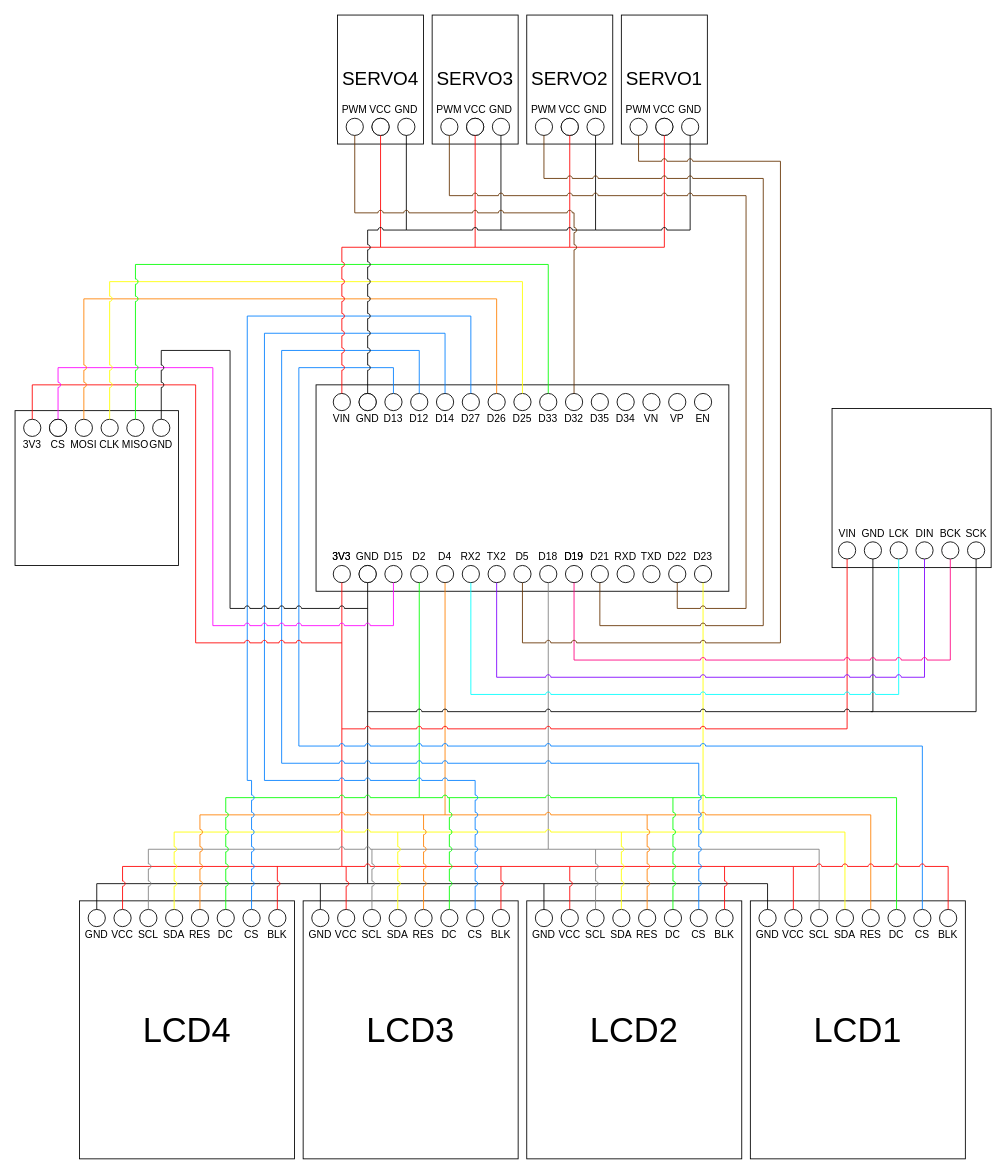
Image size: 1006x1174. Some labels were removed from this diagram. The shapes that lost their labels are listed below. From the top down, each one's box as (x1, y1, x2, y2) in pixels, then its label:
(14, 410, 178, 565): SD
(315, 384, 729, 591): ESP32
(831, 408, 991, 568): PCM
